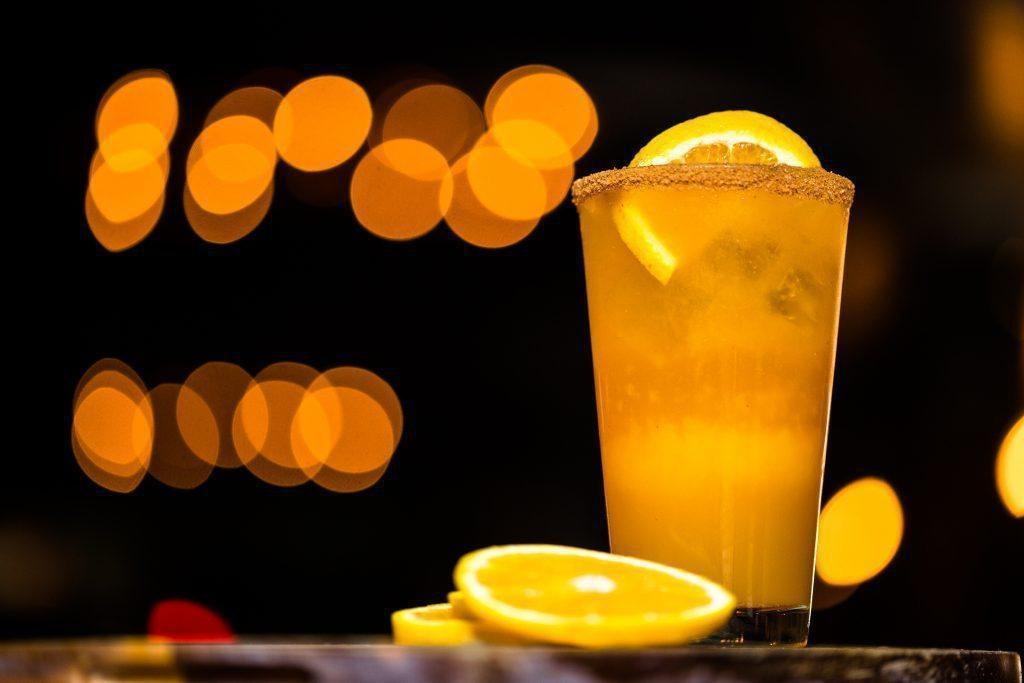glass-normal: (570, 159, 857, 645)
